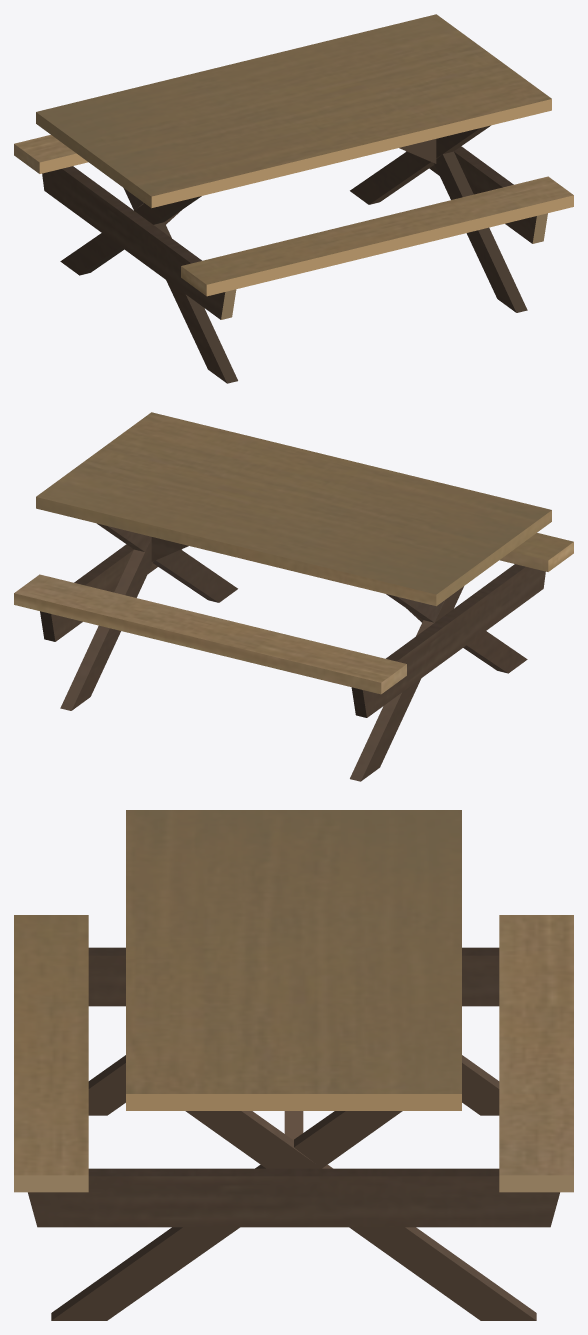
The model's file is parkTable.fbx.
The picture shows the model from 3 angles, top to bottom: view 1: azimuth 30°, elevation 25°; view 2: azimuth 150°, elevation 25°; view 3: azimuth 270°, elevation 25°; orthographic projection. The views are drawn at different scales.
Parts seen in each view (by area): view 1: parcTable; view 2: parcTable; view 3: parcTable.
Part boxes in pixels (x1,y1,x2,y2): parcTable: (14,14,573,383); parcTable: (14,412,573,781); parcTable: (14,810,573,1320).
Size of the model in its own units: 184 by 79.2 by 153.
Materials: 1 (1 with a texture image).
